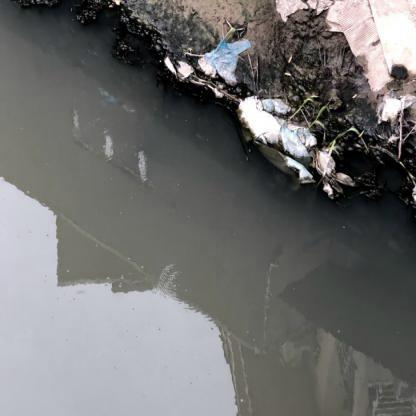Trash: (196, 35, 250, 86)
